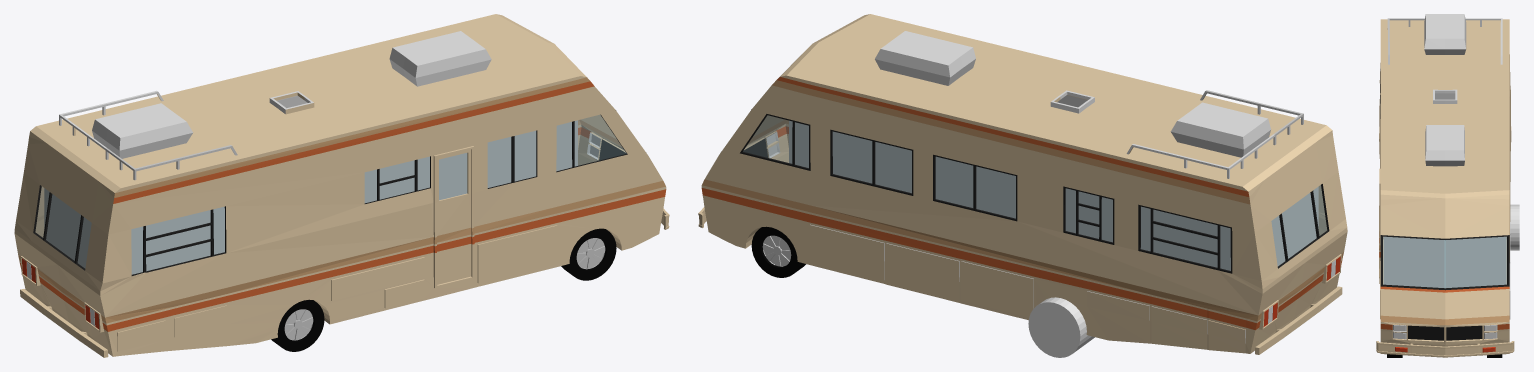
Rendered from minrvfinal.dae.
The picture shows the model from 3 angles, left to right: view 1: azimuth 30°, elevation 25°; view 2: azimuth 150°, elevation 25°; view 3: azimuth 270°, elevation 25°; orthographic projection. The views are drawn at different scales.
Parts seen in each view (by area): view 1: Cube, Cube_001, Cylinder_004, Cylinder_003; view 2: Cube, Cube_001, Cylinder_001, Cylinder; view 3: Cube, Cube_001, Cylinder_001.
Part boxes in pixels (<box>): Cube: <box>14,14,669,357</box>; Cube_001: <box>44,96,577,274</box>; Cylinder_004: <box>561,228,616,280</box>; Cylinder_003: <box>271,299,324,351</box>; Cube: <box>698,14,1347,354</box>; Cube_001: <box>789,95,1318,270</box>; Cylinder_001: <box>1028,297,1094,357</box>; Cylinder: <box>751,226,805,277</box>; Cube: <box>1376,14,1514,357</box>; Cube_001: <box>1383,93,1506,287</box>; Cylinder_001: <box>1510,204,1519,250</box>.
Size of the model in its own units: 12.36 by 3.5 by 4.76.
